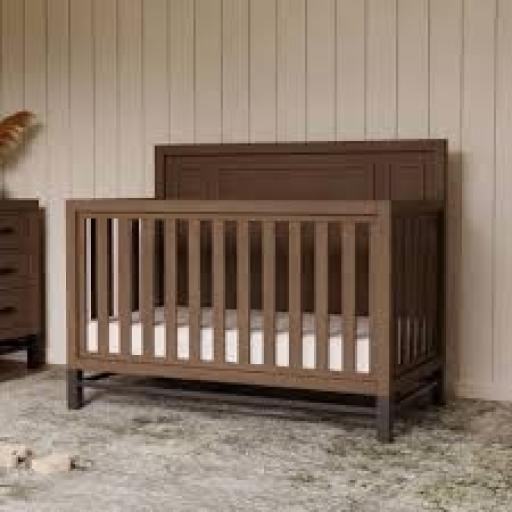crib: (67, 138, 447, 443)
